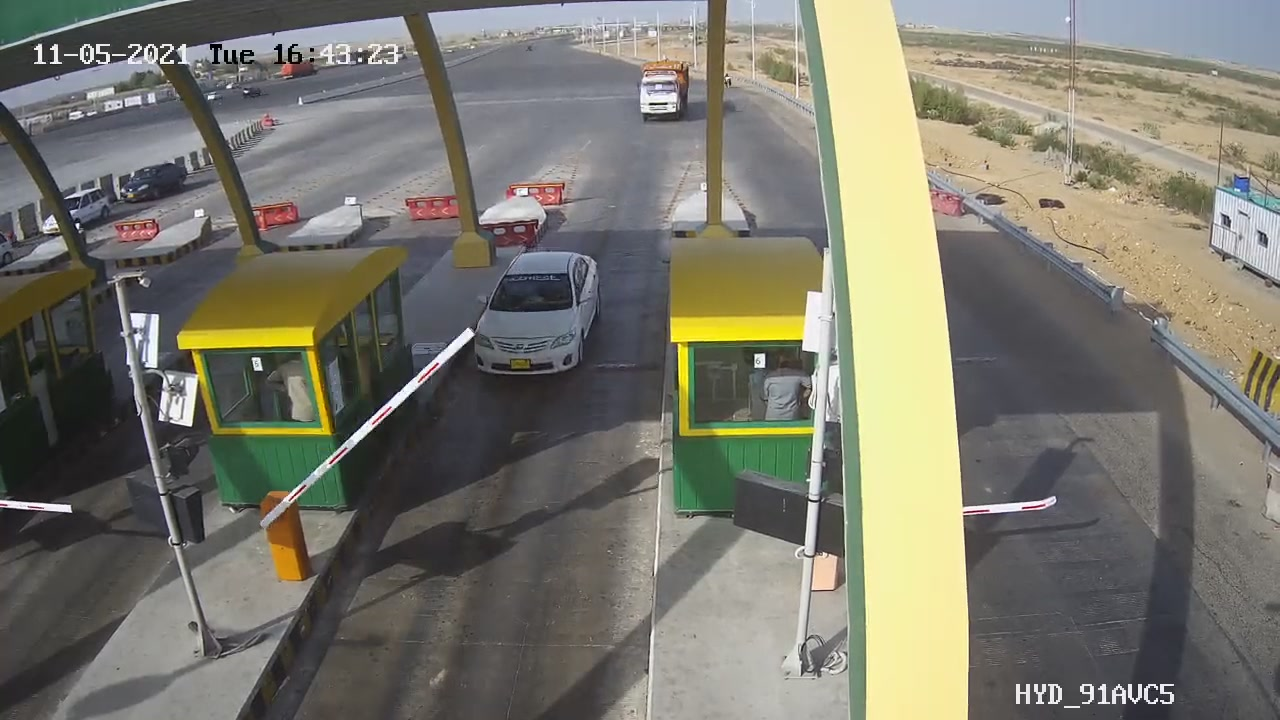F1: (444, 234, 622, 398)
